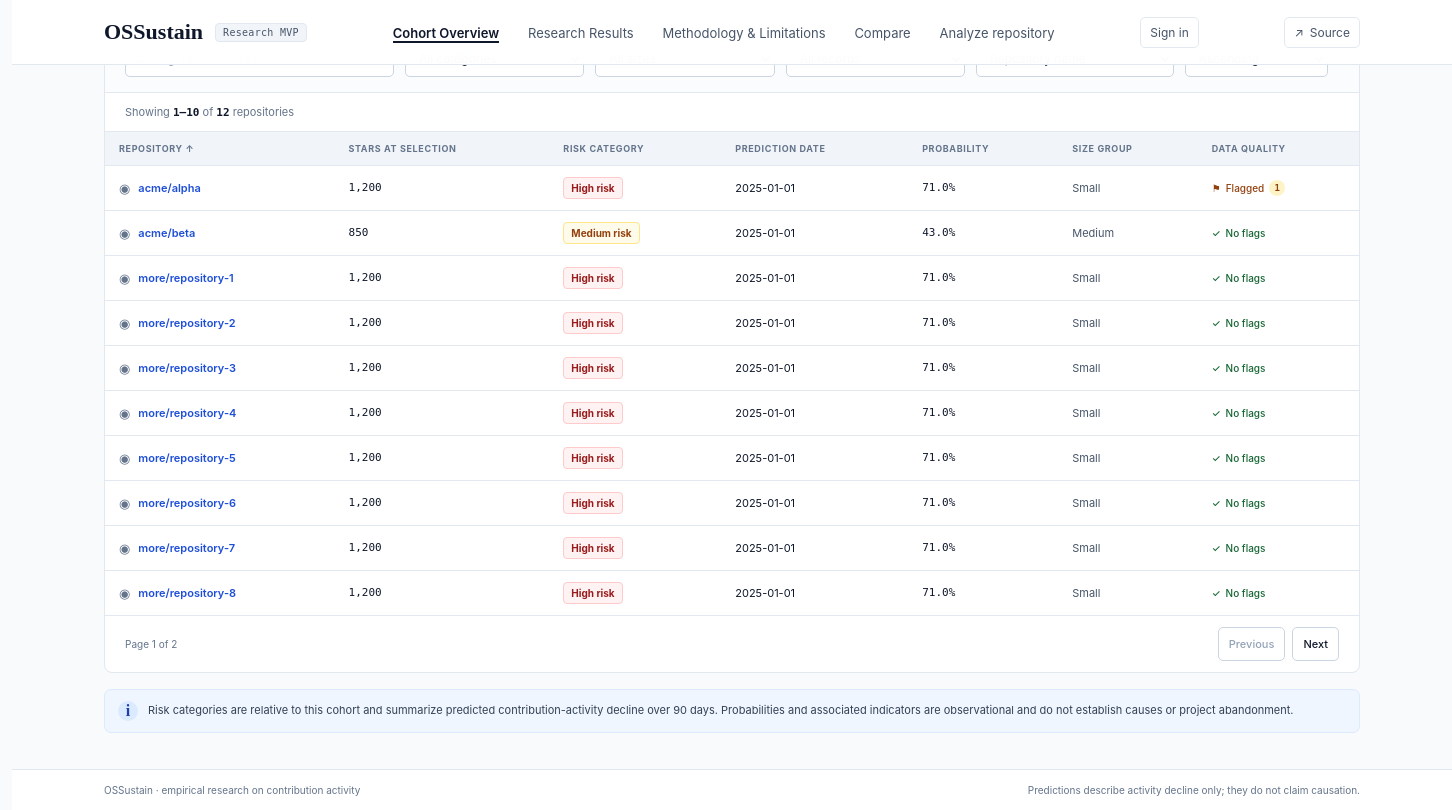
it: Dashboard screens › paginates the filtered results and keeps the page in the URL
(page scrolled)
Expected: the link "◉ acme/alpha" is shown, [119,180,201,196]
Click the button "Next": point(1316, 644) [1292,627,1339,661]
(page scrolled)
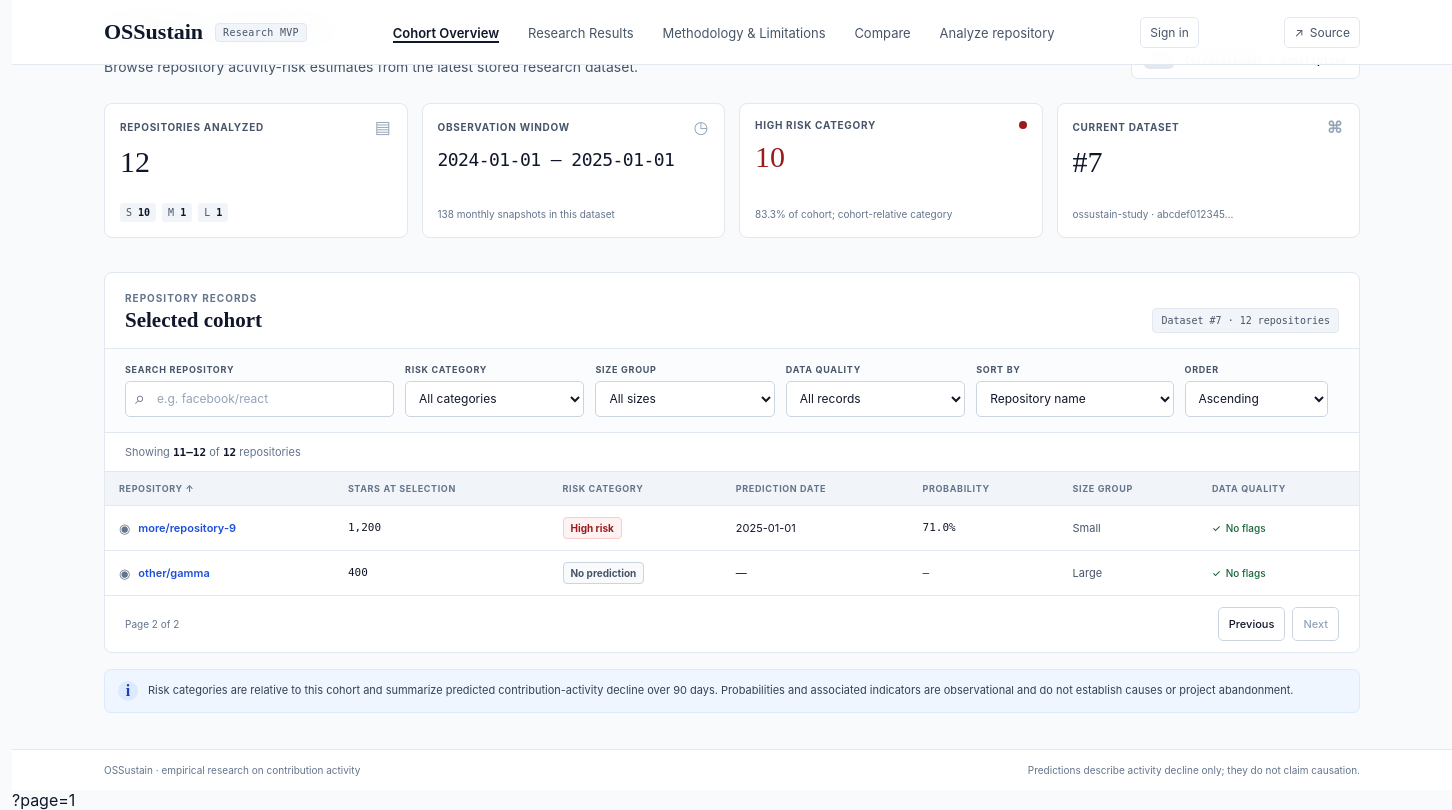
Expected: the text named "Current URL query" shows "page=1", [12,790,75,809]
Expected: the text "Page 2 of 2" is shown, [125,618,179,630]
